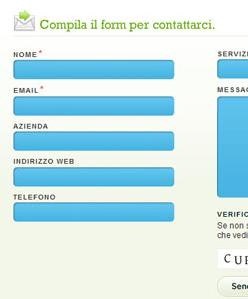field: (11, 165, 176, 188), (12, 95, 176, 118), (11, 59, 175, 81), (12, 201, 176, 223), (12, 131, 176, 152)
field_with_label: (9, 85, 178, 120), (9, 50, 178, 84), (10, 156, 177, 190), (10, 192, 178, 224), (11, 122, 178, 154)
